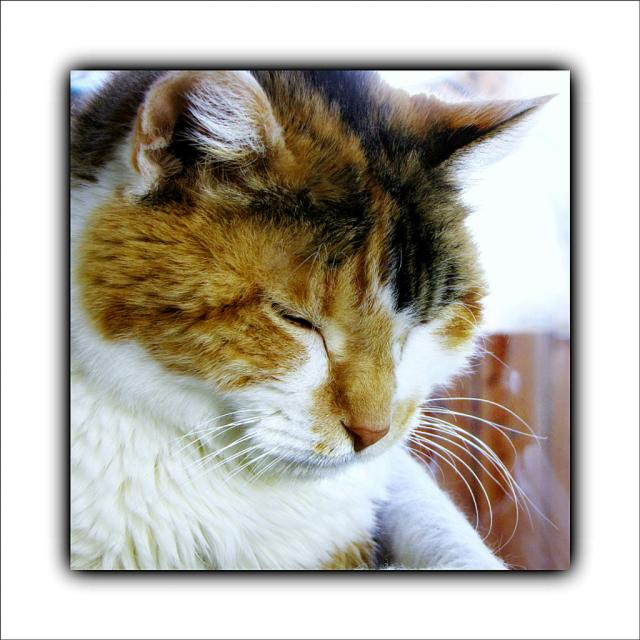Cat: (70, 70, 560, 568)
